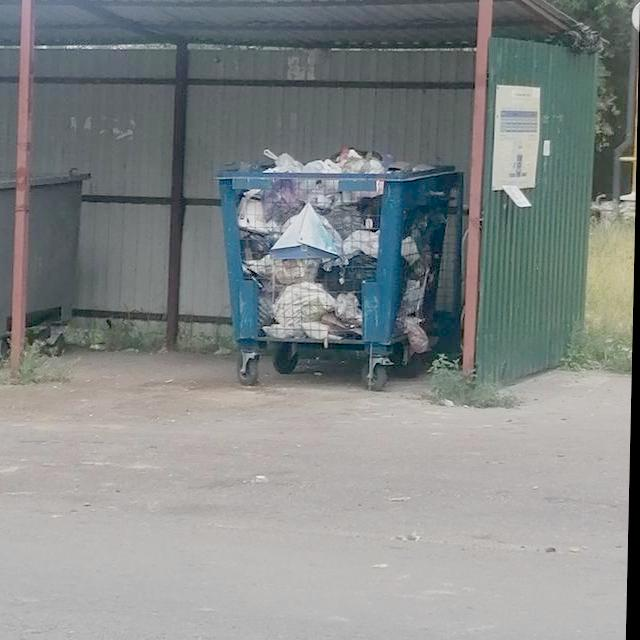Trash_Can_Full: (210, 146, 462, 350)
